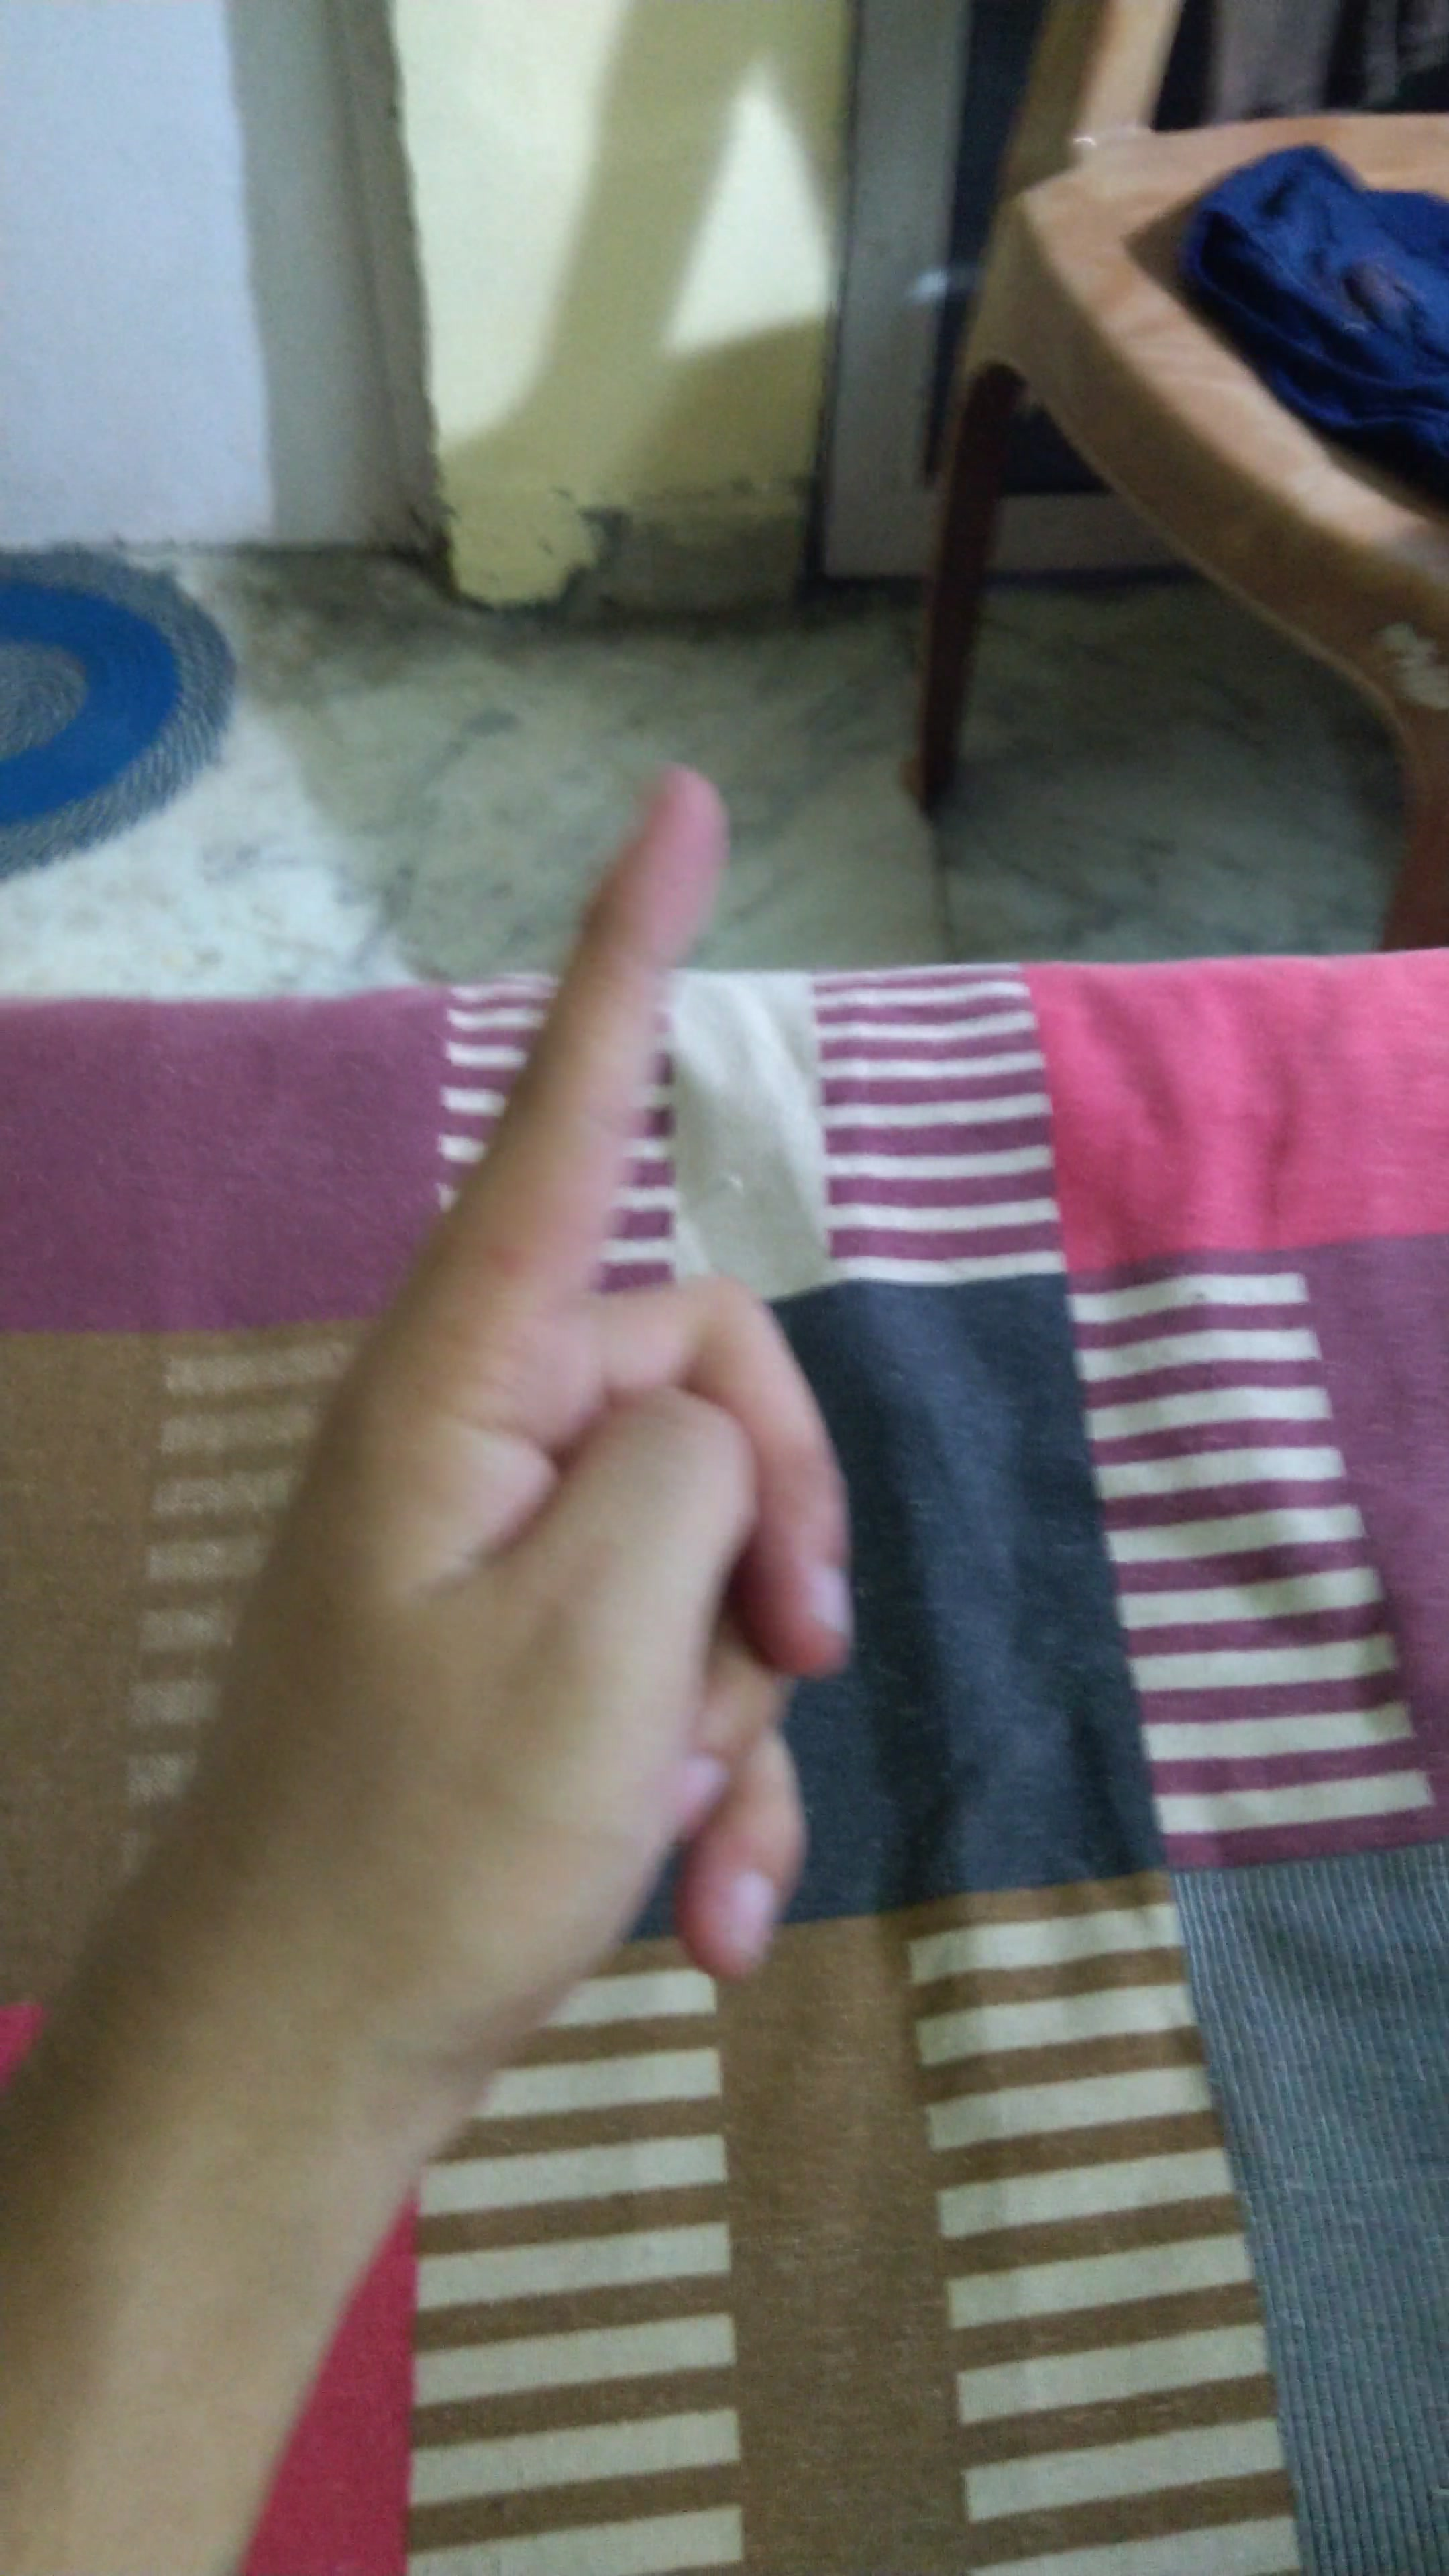hand: (184, 729, 1008, 2058)
